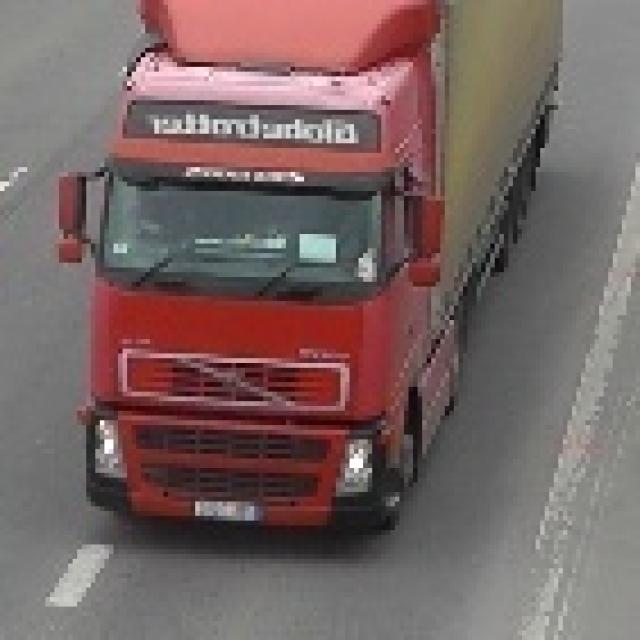TRUCK: (63, 0, 559, 535)
